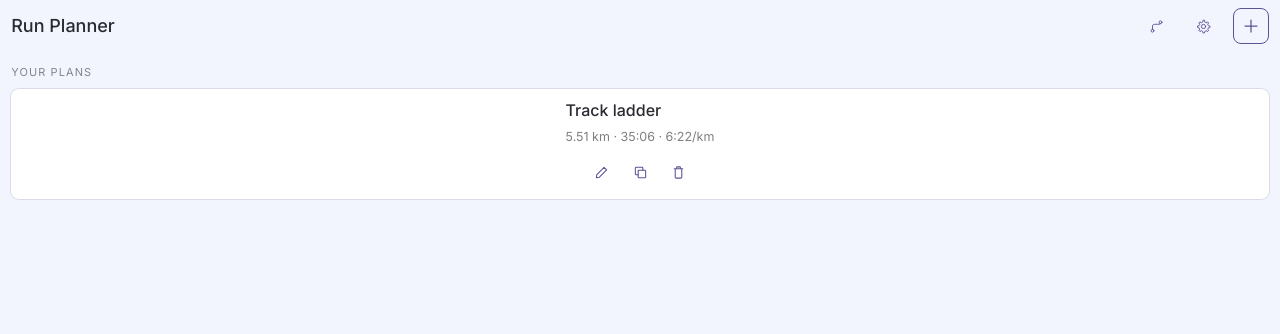
PlansScreen › creating a new plan opens it
Click the button named "New plan" at (1251, 26), box [1233,8,1269,44]
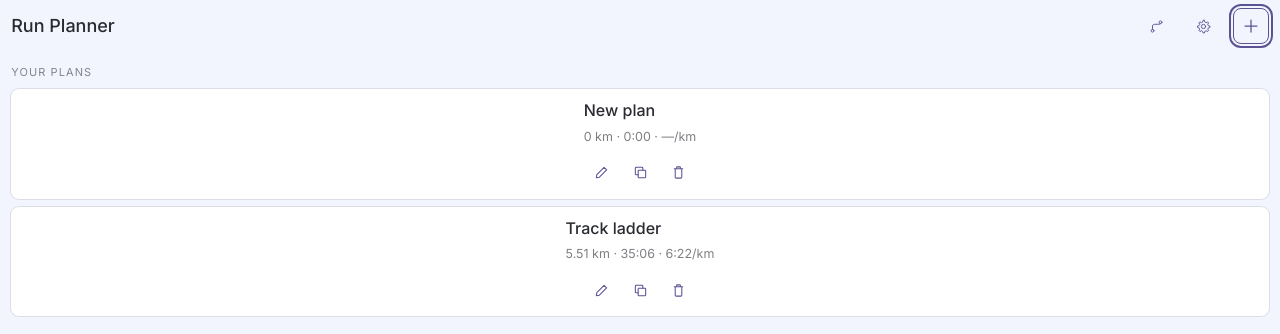
Result: the text "New plan" is shown at [584,100,655,120]
